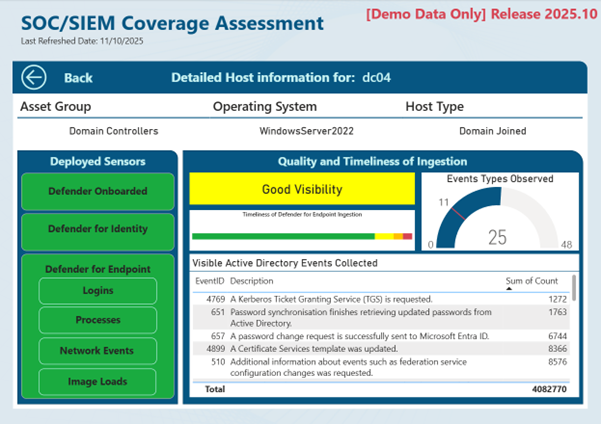

This screenshot's page, from the dashboard's own definition file:
{"tool":"powerbi","page":{"name":"Drill Host Detail","canvas":[1123,794],"ordinal":12},"visuals":[{"type":"textbox","box":[0,10,1123,90],"z":0},{"type":"shape","box":[25,176.2,1073.8,588.8],"z":1000},{"type":"shape","box":[24.5,115.2,1074.4,60.7],"z":2000},{"type":"textbox","box":[33.8,116.2,985,60],"z":3000},{"type":"actionButton","box":[34.3,115.7,143.6,60],"z":4000},{"type":"card","title":"Operating System","fields":{"Values":["Min(View-Hosts.ATH-DeviceInfo-HostsDetailed.OSPlatform)"]},"box":[393.8,182.5,360,86.2],"z":5000},{"type":"card","title":"Host Type","fields":{"Values":["Min(View-Hosts.ATH-DeviceInfo-HostsDetailed.JoinType)"]},"box":[753.8,182.5,336.2,86.2],"z":6000},{"type":"card","title":"Asset Group","fields":{"Values":["View-Hosts.Drill Through Asset Group Description"]},"box":[33.8,182.5,360,86.2],"z":7000},{"type":"textbox","box":[36.2,422.5,231.2,43.8],"z":8000},{"type":"shape","box":[33.8,282.5,300,475],"z":9000},{"type":"textbox","box":[33.8,282.5,300,47.5],"z":10000},{"type":"textbox","box":[41,324,286,70],"z":11000},{"type":"shape","box":[342.5,282.5,748,475],"z":12000},{"type":"textbox","box":[41,400,286,70],"z":13000},{"type":"textbox","box":[41,476,286,271],"z":14000},{"type":"textbox","box":[73.6,575,220,50],"z":15000},{"type":"textbox","box":[73.6,520,220,50],"z":16000},{"type":"textbox","box":[73,690,220,50],"z":17000},{"type":"textbox","box":[73.6,632.7,220,50],"z":18000},{"type":"tableEx","title":"Visible Active Directory Events Collected","fields":{"Values":["SCHEMA_EventIDs.EventID","SCHEMA_EventIDs.Description","Sum(View-ADEvents.Count)"]},"box":[355,476.2,728,267.5],"z":19000},{"type":"gauge","title":"Events Types Observed","fields":{"Y":["View-ADEvents.EventIDs DMADC Observed"],"TargetValue":["View-ADEvents.EventIDs DMADC Observed PRIORITY"],"MaxValue":["View-ADEvents.EventIDs DMADC UNIQUE"]},"box":[788.8,323.8,293.8,146.2],"z":20000},{"type":"card","fields":{"Values":["View-Hosts.Health Host Score Metric"]},"box":[355,323.8,421.2,60],"z":21000},{"type":"textbox","box":[333.8,282.5,727.5,61.2],"z":22000},{"type":"hundredPercentStackedBarChart","title":"Timeliness of Defender for Endpoint Ingestion","fields":{"Category":["View-MDE.HostName"],"Y":["Sum(View-MDE.Average-NearRealTime)","Sum(View-MDE.Average-MinorDelay)","Sum(View-MDE.Average-ModerateDelay)","Sum(View-MDE.Average-SignificantDelay)"]},"box":[355,393.8,421.2,76.2],"z":23000},{"type":"textbox","box":[649.2,0,473.8,90],"z":24000}]}

Visuals, with their boxes in screenshot pixels (x1, y1, x2, y2), scaled from the page's 1123x794 canvas onto the 601x424 screenshot:
textbox: <box>0,5,600,53</box>
shape: <box>13,94,588,409</box>
shape: <box>13,62,588,94</box>
textbox: <box>18,62,545,94</box>
actionButton: <box>18,62,95,94</box>
"Operating System" card: <box>211,97,403,143</box>
"Host Type" card: <box>403,97,583,143</box>
"Asset Group" card: <box>18,97,211,143</box>
textbox: <box>19,226,143,249</box>
shape: <box>18,151,179,405</box>
textbox: <box>18,151,179,176</box>
textbox: <box>22,173,175,210</box>
shape: <box>183,151,584,405</box>
textbox: <box>22,214,175,251</box>
textbox: <box>22,254,175,399</box>
textbox: <box>39,307,157,334</box>
textbox: <box>39,278,157,304</box>
textbox: <box>39,368,157,395</box>
textbox: <box>39,338,157,365</box>
"Visible Active Directory Events Collected" tableEx: <box>190,254,580,397</box>
"Events Types Observed" gauge: <box>422,173,579,251</box>
card - View-Hosts.Health Host Score Metric: <box>190,173,415,205</box>
textbox: <box>179,151,568,184</box>
"Timeliness of Defender for Endpoint Ingestion" hundredPercentStackedBarChart: <box>190,210,415,251</box>
textbox: <box>347,0,600,48</box>
